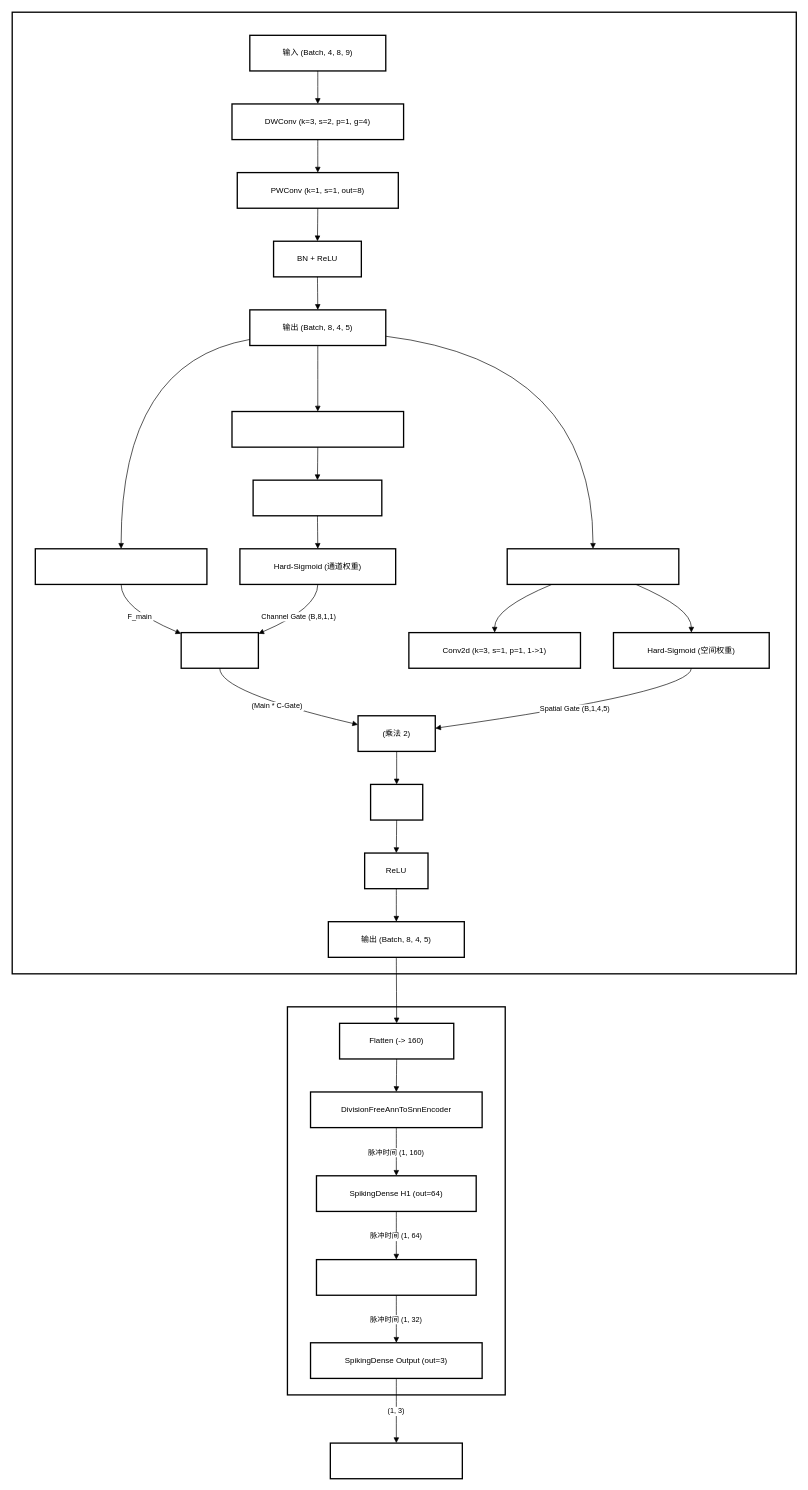
Image size: 808x1490. Some labels were removed from this diagram. The shapes that lost their labels are listed below. From the top down, each one's centre as x and y in pixels, then its label:
the point at 317,429: 通道门: GlobalAvgPool2d (-> B,8,1,1)
the point at 317,497: Conv1d (k=1, 8->8)
the point at 120,566: DWConv (k=3, s=1, g=8)
the point at 592,566: 空间门: Mean across channels (-> B,1,4,5)
the point at 219,650: (乘法 1)
the point at 396,801: BN
the point at 396,1277: SpikingDense H2 (out=32)
the point at 396,1460: 最终输出 (Batch, 3)
